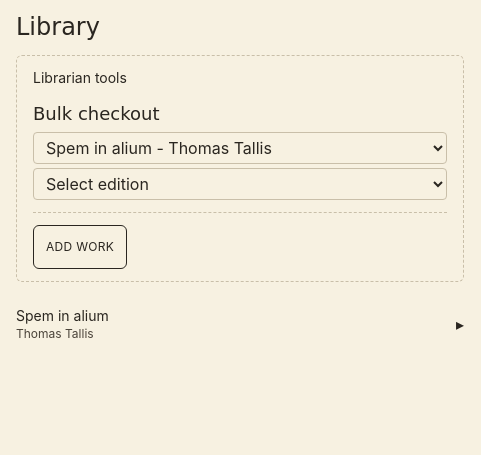
Test: #198 — inline create-work form › no form in the DOM until the button is clicked; clicking reveals the inline form with a name input and a composer input
Click the button with test id "create-work-button" at coordinates (80, 247), box [33, 225, 127, 269]
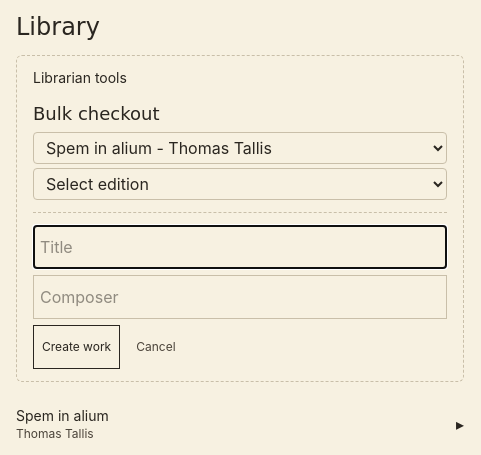
Now the element with test id "create-work-form" is shown, box [33, 225, 447, 369]
Now the field with test id "create-work-name" is shown, box [33, 225, 447, 269]
Now the field with test id "create-work-composer" is shown, box [33, 275, 447, 319]
